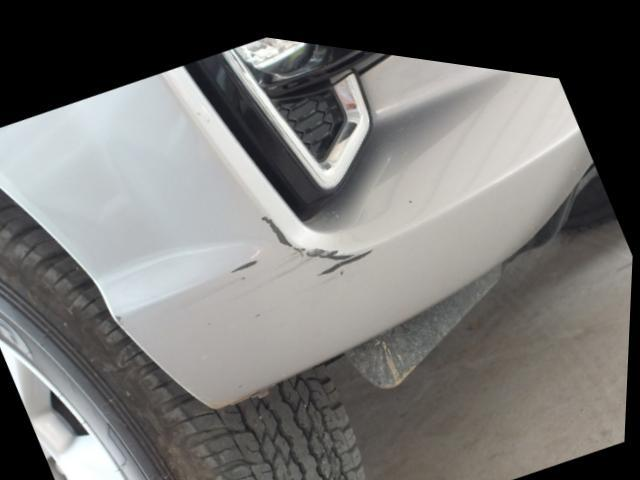scratch: (226, 207, 378, 284)
